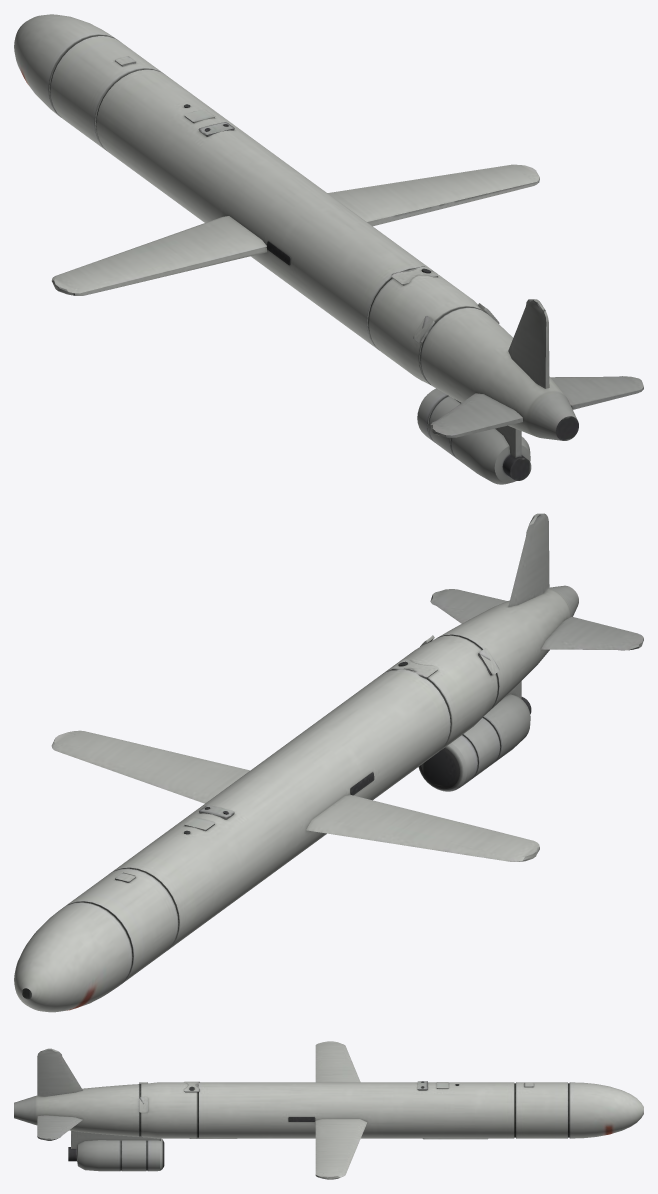
The picture shows the model from 3 angles, top to bottom: view 1: azimuth 30°, elevation 25°; view 2: azimuth 150°, elevation 25°; view 3: azimuth 270°, elevation 25°; orthographic projection. The views are drawn at different scales.
Visible parts, largest first — view 1: body|K55_body, body|K55_wing, body|K55_ctrl, body|K55_dark; view 2: body|K55_body, body|K55_wing, body|K55_ctrl, body|K55_dark; view 3: body|K55_body, body|K55_ctrl, body|K55_wing, body|K55_dark.
Part boxes in pixels (x1,y1,x2,y2): body|K55_body: (14, 14, 564, 436); body|K55_wing: (51, 56, 539, 343); body|K55_ctrl: (198, 122, 643, 484); body|K55_dark: (49, 35, 578, 480); body|K55_body: (14, 589, 570, 1012); body|K55_wing: (51, 635, 539, 882); body|K55_ctrl: (198, 513, 643, 819); body|K55_dark: (21, 634, 531, 999); body|K55_body: (36, 1082, 643, 1138); body|K55_ctrl: (14, 1048, 487, 1171); body|K55_wing: (139, 1041, 533, 1179); body|K55_dark: (68, 1081, 569, 1170).
Bounding box in the file's own units: 3.08 × 1.27 × 6.04.
4 materials, 4 textured.
